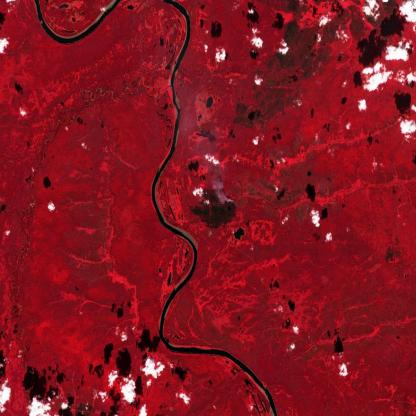fire: (212, 186, 235, 210)
